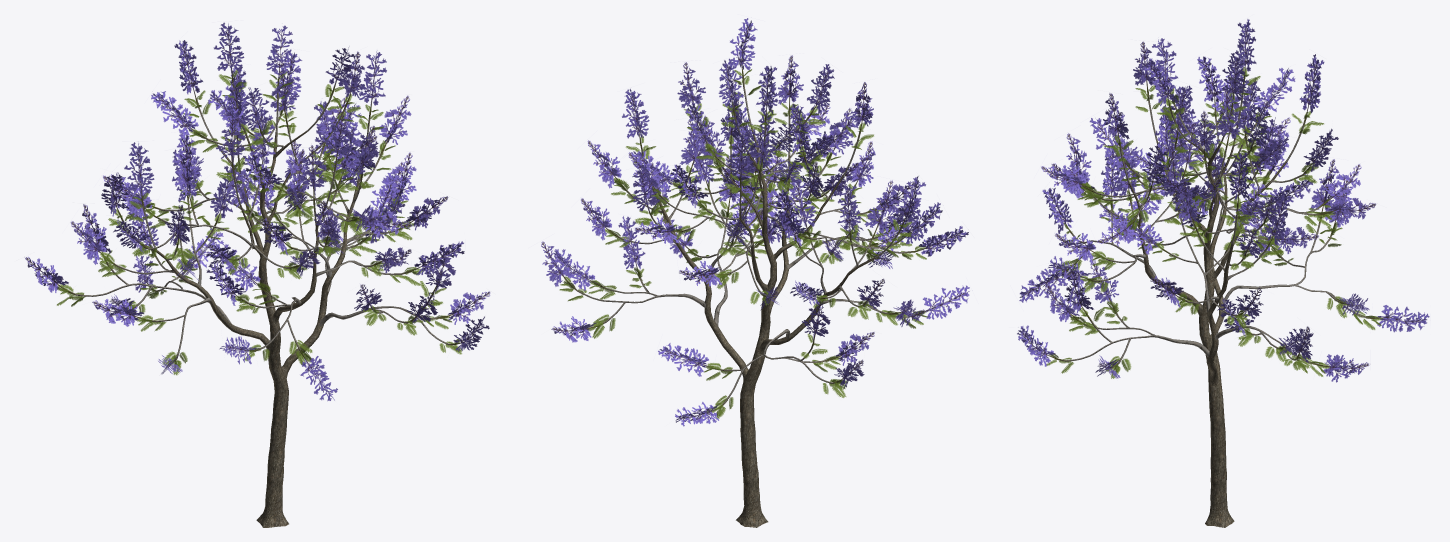
The model's file is arbol1.glb.
3 renders of one model, left to right at view 1: azimuth 30°, elevation 25°; view 2: azimuth 150°, elevation 25°; view 3: azimuth 270°, elevation 25°, orthographic. The views are drawn at different scales.
Parts seen in each view (by area): view 1: Jacaranda_mimosifolia_HD_Jacaranda leaf 04_0_10, Jacaranda_mimosifolia_HD_Jacaranda flw 05_0_6, Jacaranda_mimosifolia_HD_Jacaranda flw 07_0_9, Jacaranda_mimosifolia_HD_Jacaranda flw 08_0_8, Jacaranda_mimosifolia_HD_Jacaranda bark_0_4, Jacaranda_mimosifolia_HD_Jacaranda flw 06_0_7, Jacaranda_mimosifolia_HD_Jacaranda bark 02_0_5, Jacaranda_mimosifolia_HD_Jacaranda twig_0_11, Jacaranda_mimosifolia_HD_Jacaranda flower stalk_0_12; view 2: Jacaranda_mimosifolia_HD_Jacaranda flw 07_0_9, Jacaranda_mimosifolia_HD_Jacaranda leaf 04_0_10, Jacaranda_mimosifolia_HD_Jacaranda flw 06_0_7, Jacaranda_mimosifolia_HD_Jacaranda flw 08_0_8, Jacaranda_mimosifolia_HD_Jacaranda flw 05_0_6, Jacaranda_mimosifolia_HD_Jacaranda bark_0_4, Jacaranda_mimosifolia_HD_Jacaranda bark 02_0_5, Jacaranda_mimosifolia_HD_Jacaranda twig_0_11, Jacaranda_mimosifolia_HD_Jacaranda flower stalk_0_12; view 3: Jacaranda_mimosifolia_HD_Jacaranda flw 07_0_9, Jacaranda_mimosifolia_HD_Jacaranda flw 08_0_8, Jacaranda_mimosifolia_HD_Jacaranda leaf 04_0_10, Jacaranda_mimosifolia_HD_Jacaranda flw 06_0_7, Jacaranda_mimosifolia_HD_Jacaranda flw 05_0_6, Jacaranda_mimosifolia_HD_Jacaranda bark_0_4, Jacaranda_mimosifolia_HD_Jacaranda bark 02_0_5, Jacaranda_mimosifolia_HD_Jacaranda twig_0_11, Jacaranda_mimosifolia_HD_Jacaranda flower stalk_0_12.
Boxes of the visible parts, box(x1,y1,x2,y2) form: Jacaranda_mimosifolia_HD_Jacaranda leaf 04_0_10: box(57, 70, 461, 375); Jacaranda_mimosifolia_HD_Jacaranda flw 05_0_6: box(25, 51, 490, 326); Jacaranda_mimosifolia_HD_Jacaranda flw 07_0_9: box(101, 22, 484, 400); Jacaranda_mimosifolia_HD_Jacaranda flw 08_0_8: box(110, 23, 489, 401); Jacaranda_mimosifolia_HD_Jacaranda bark_0_4: box(143, 125, 362, 527); Jacaranda_mimosifolia_HD_Jacaranda flw 06_0_7: box(25, 52, 489, 323); Jacaranda_mimosifolia_HD_Jacaranda bark 02_0_5: box(86, 96, 443, 352); Jacaranda_mimosifolia_HD_Jacaranda twig_0_11: box(68, 78, 453, 360); Jacaranda_mimosifolia_HD_Jacaranda flower stalk_0_12: box(63, 64, 460, 361); Jacaranda_mimosifolia_HD_Jacaranda flw 07_0_9: box(553, 18, 969, 422); Jacaranda_mimosifolia_HD_Jacaranda leaf 04_0_10: box(559, 69, 927, 419); Jacaranda_mimosifolia_HD_Jacaranda flw 06_0_7: box(541, 55, 924, 388); Jacaranda_mimosifolia_HD_Jacaranda flw 08_0_8: box(551, 20, 969, 426); Jacaranda_mimosifolia_HD_Jacaranda flw 05_0_6: box(542, 55, 924, 381); Jacaranda_mimosifolia_HD_Jacaranda bark_0_4: box(652, 126, 875, 527); Jacaranda_mimosifolia_HD_Jacaranda bark 02_0_5: box(584, 96, 900, 396); Jacaranda_mimosifolia_HD_Jacaranda twig_0_11: box(570, 76, 917, 406); Jacaranda_mimosifolia_HD_Jacaranda flower stalk_0_12: box(563, 64, 920, 411); Jacaranda_mimosifolia_HD_Jacaranda flw 07_0_9: box(1017, 19, 1429, 357); Jacaranda_mimosifolia_HD_Jacaranda flw 08_0_8: box(1018, 21, 1426, 366); Jacaranda_mimosifolia_HD_Jacaranda leaf 04_0_10: box(1046, 67, 1383, 378); Jacaranda_mimosifolia_HD_Jacaranda flw 06_0_7: box(1041, 41, 1375, 382); Jacaranda_mimosifolia_HD_Jacaranda flw 05_0_6: box(1041, 42, 1375, 376); Jacaranda_mimosifolia_HD_Jacaranda bark_0_4: box(1129, 125, 1286, 527); Jacaranda_mimosifolia_HD_Jacaranda bark 02_0_5: box(1073, 94, 1352, 360); Jacaranda_mimosifolia_HD_Jacaranda twig_0_11: box(1058, 77, 1371, 365); Jacaranda_mimosifolia_HD_Jacaranda flower stalk_0_12: box(1045, 73, 1387, 367).
Bounding box in the file's own units: 2 × 2.53 × 2.01.
Materials: 10 (10 with a texture image).
